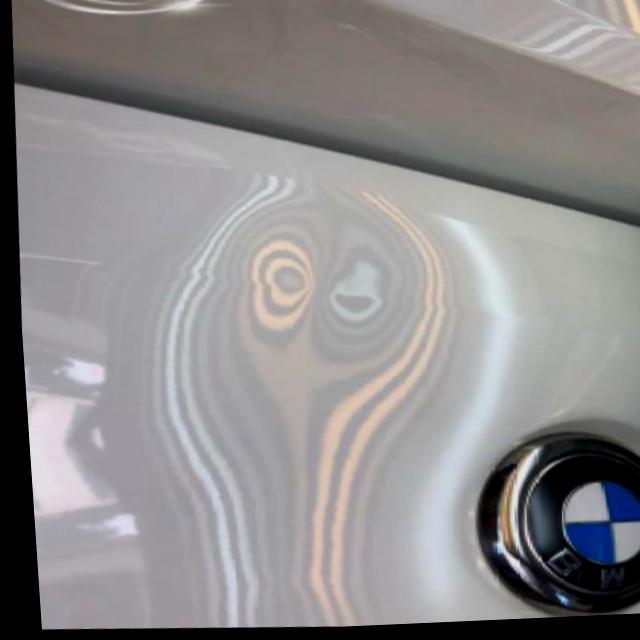PDR-Dent: (134, 167, 474, 498)
